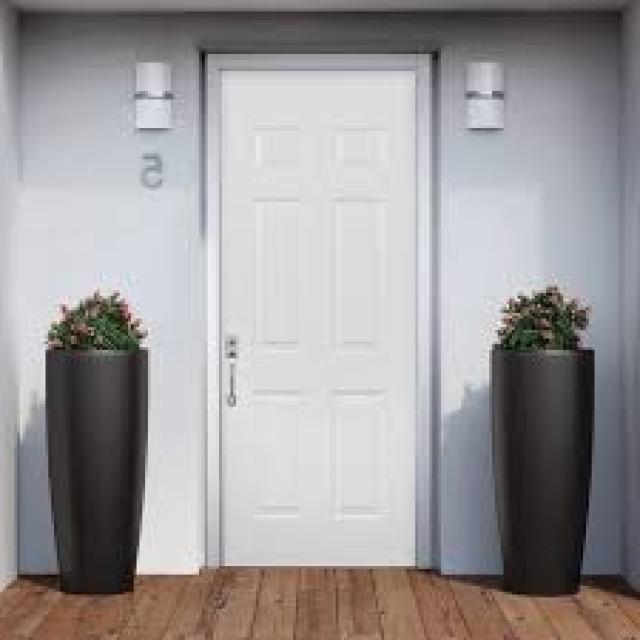door: (215, 57, 422, 569)
